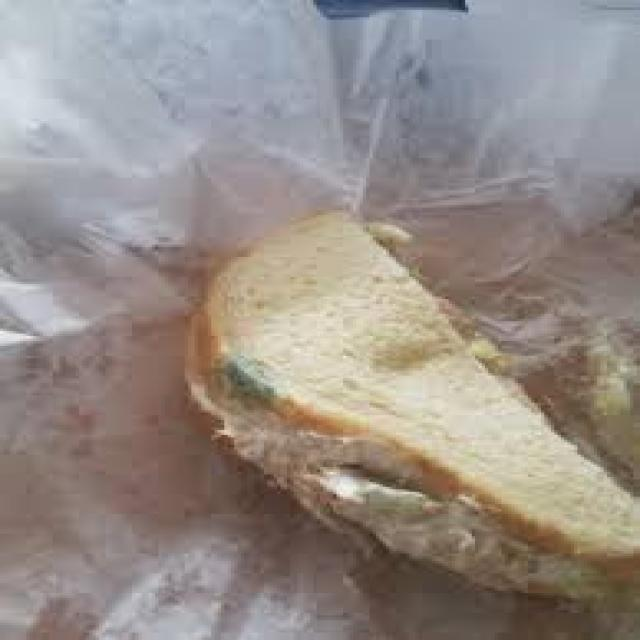food_waste: (191, 215, 640, 640)
